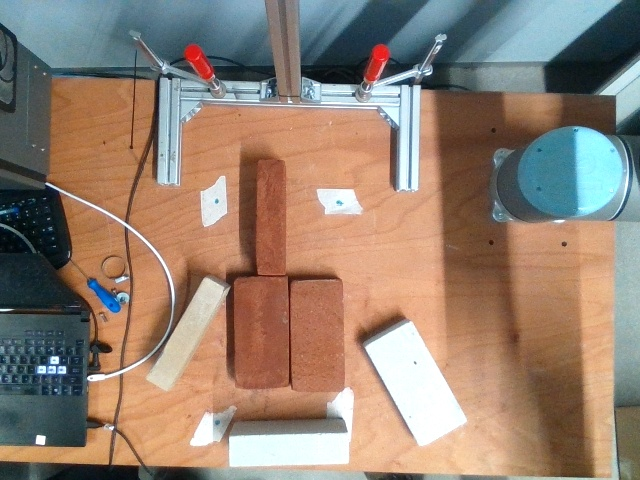brick: (234, 279, 286, 388), (292, 281, 341, 390)
brick-side: (364, 322, 466, 447), (147, 279, 225, 391), (230, 436, 347, 466), (257, 161, 283, 273)
